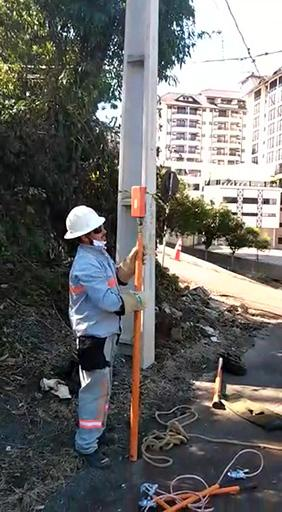Detector_Tensao_Contato: (128, 184, 147, 220)
Vara_Manobra: (126, 222, 144, 464)
